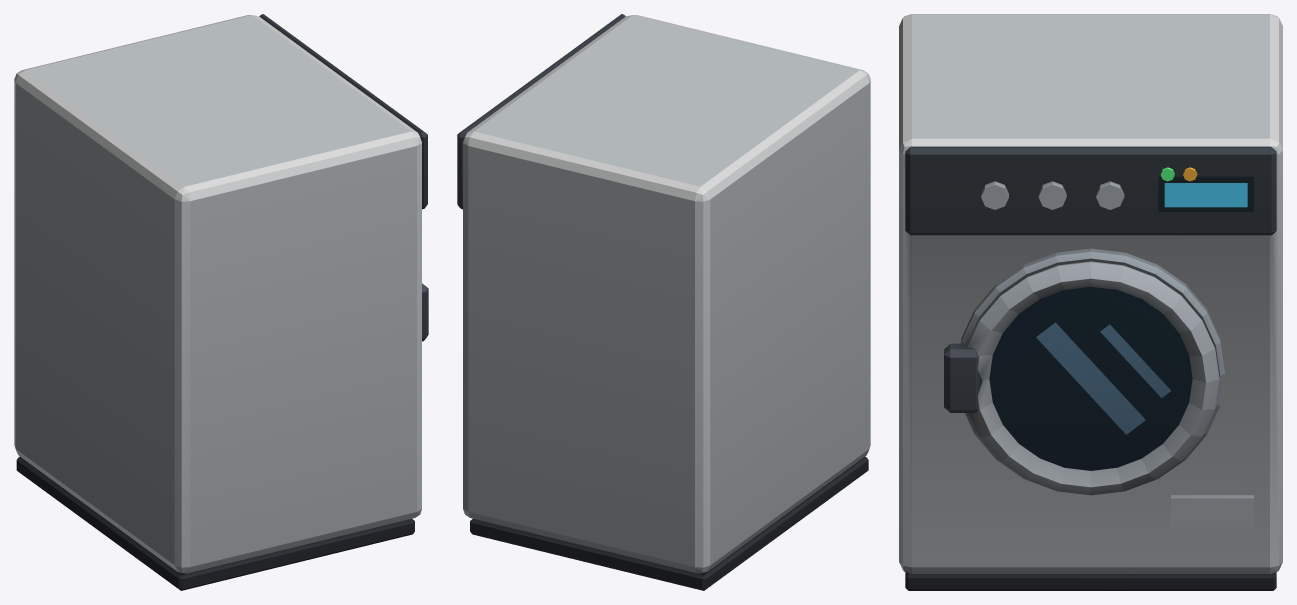
Rendered from washer_big.glb.
The picture shows the model from 3 angles, left to right: view 1: azimuth 30°, elevation 25°; view 2: azimuth 150°, elevation 25°; view 3: azimuth 270°, elevation 25°; orthographic projection. The views are drawn at different scales.
Parts seen in each view (by area): view 1: Body; view 2: Body; view 3: Body, Panel_glow.
Boxes of the visible parts, bbox=[...] form: Body: bbox=[14, 14, 428, 590]; Body: bbox=[457, 14, 870, 590]; Body: bbox=[899, 14, 1282, 590]; Panel_glow: bbox=[1160, 167, 1247, 207].
Size of the model in its own units: 1.1 by 1.56 by 1.2.
